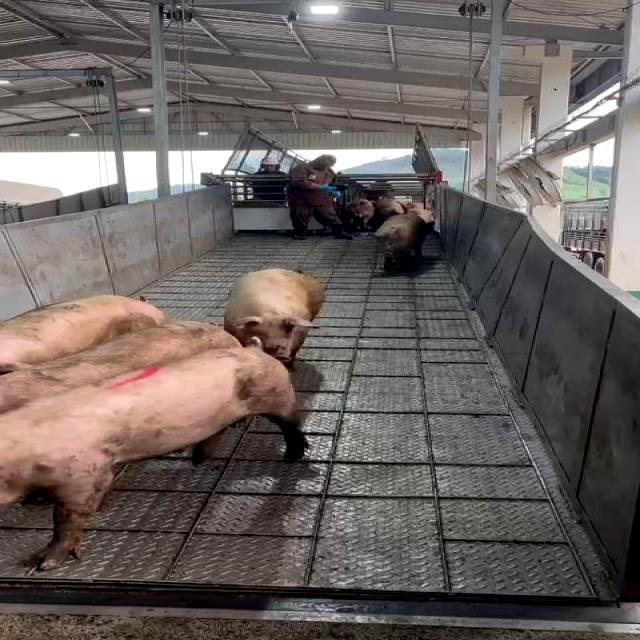pig: (0, 348, 307, 569), (0, 321, 243, 412), (0, 321, 239, 412), (0, 295, 167, 372), (225, 269, 325, 364), (376, 212, 429, 266)
